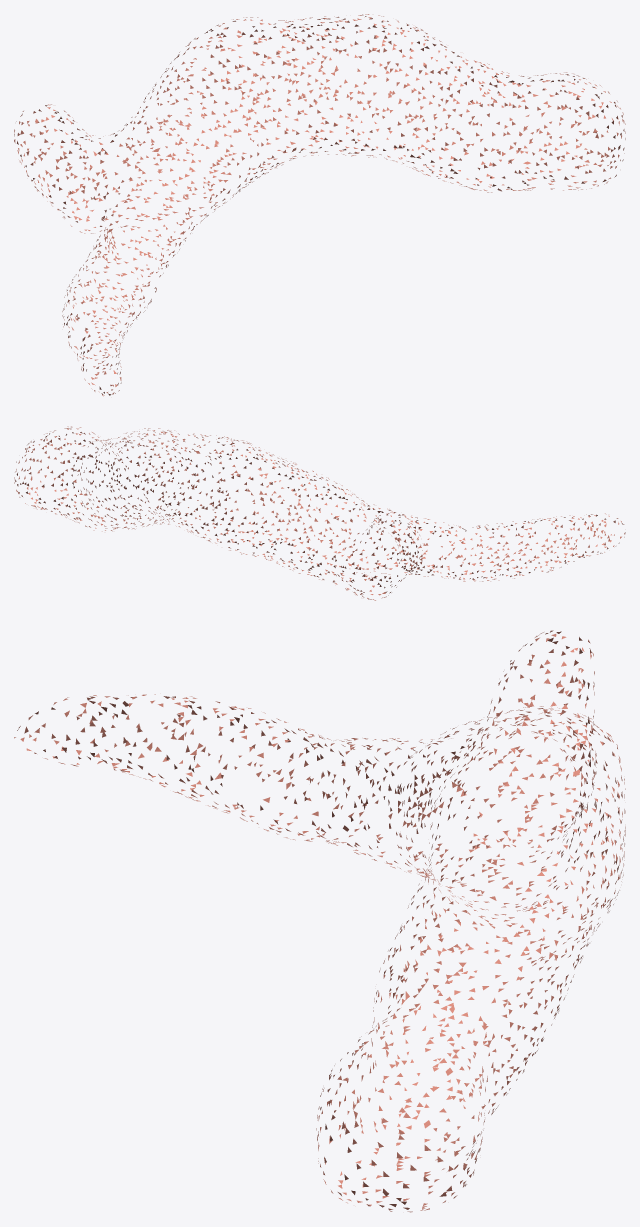
The model's file is morph_002.glb.
3 views of the same model, one above another, from view 1: azimuth 30°, elevation 25°; view 2: azimuth 150°, elevation 25°; view 3: azimuth 270°, elevation 25° (orthographic). The views are drawn at different scales.
Size of the model in its own units: 117 by 32.78 by 64.94.
